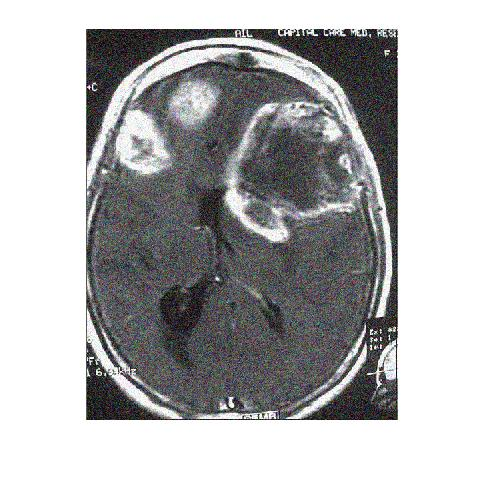Brain_Cancer: (226, 101, 359, 243), (114, 110, 175, 179), (166, 80, 220, 127)
